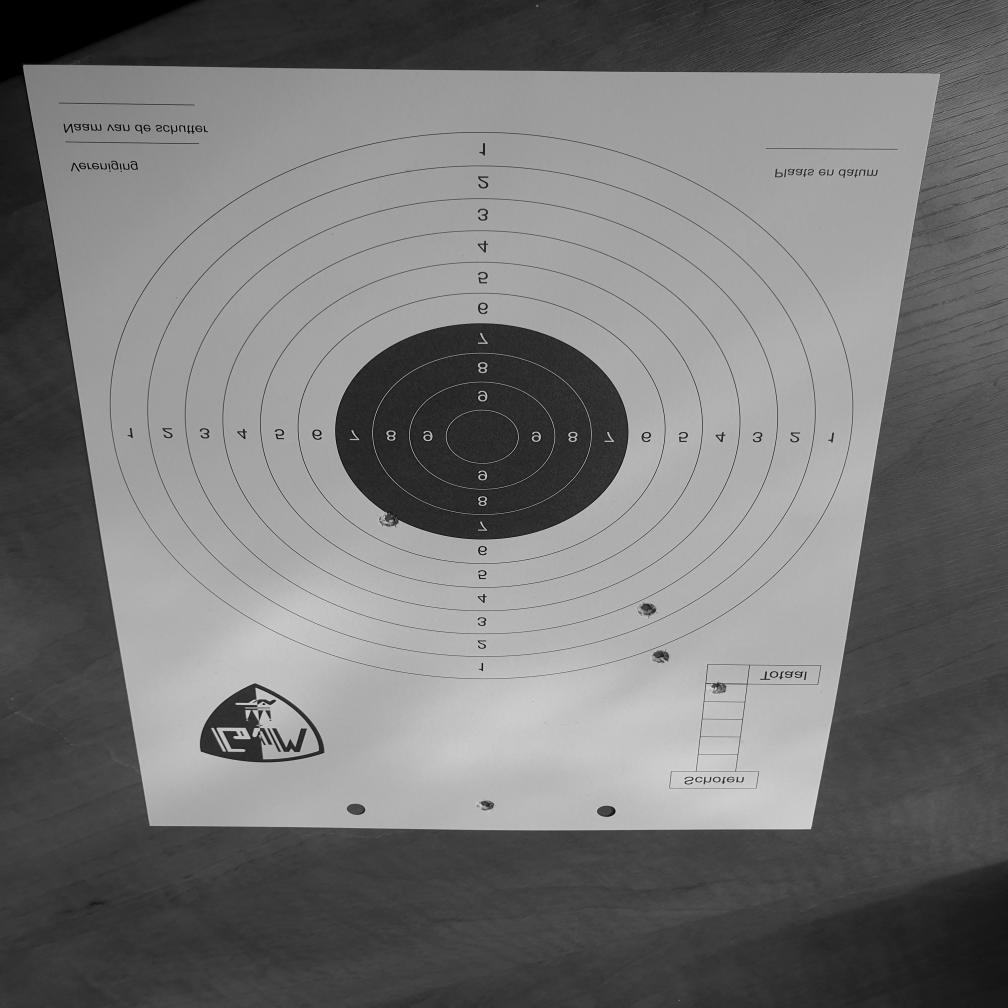0: (650, 647, 671, 665), (706, 681, 728, 696), (476, 799, 495, 812)
2: (635, 601, 658, 618)
7: (377, 511, 402, 529)
Target: (107, 128, 856, 682)
black_contour: (336, 323, 630, 541)
